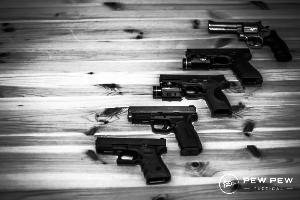handgun: (206, 15, 300, 69), (120, 100, 209, 156), (90, 134, 172, 190), (175, 42, 269, 87), (153, 71, 236, 120)
